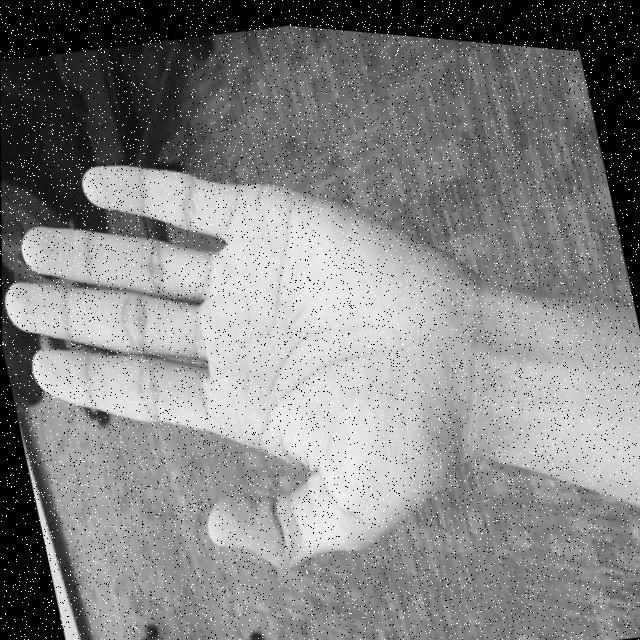no-gloves: (1, 78, 550, 627)
